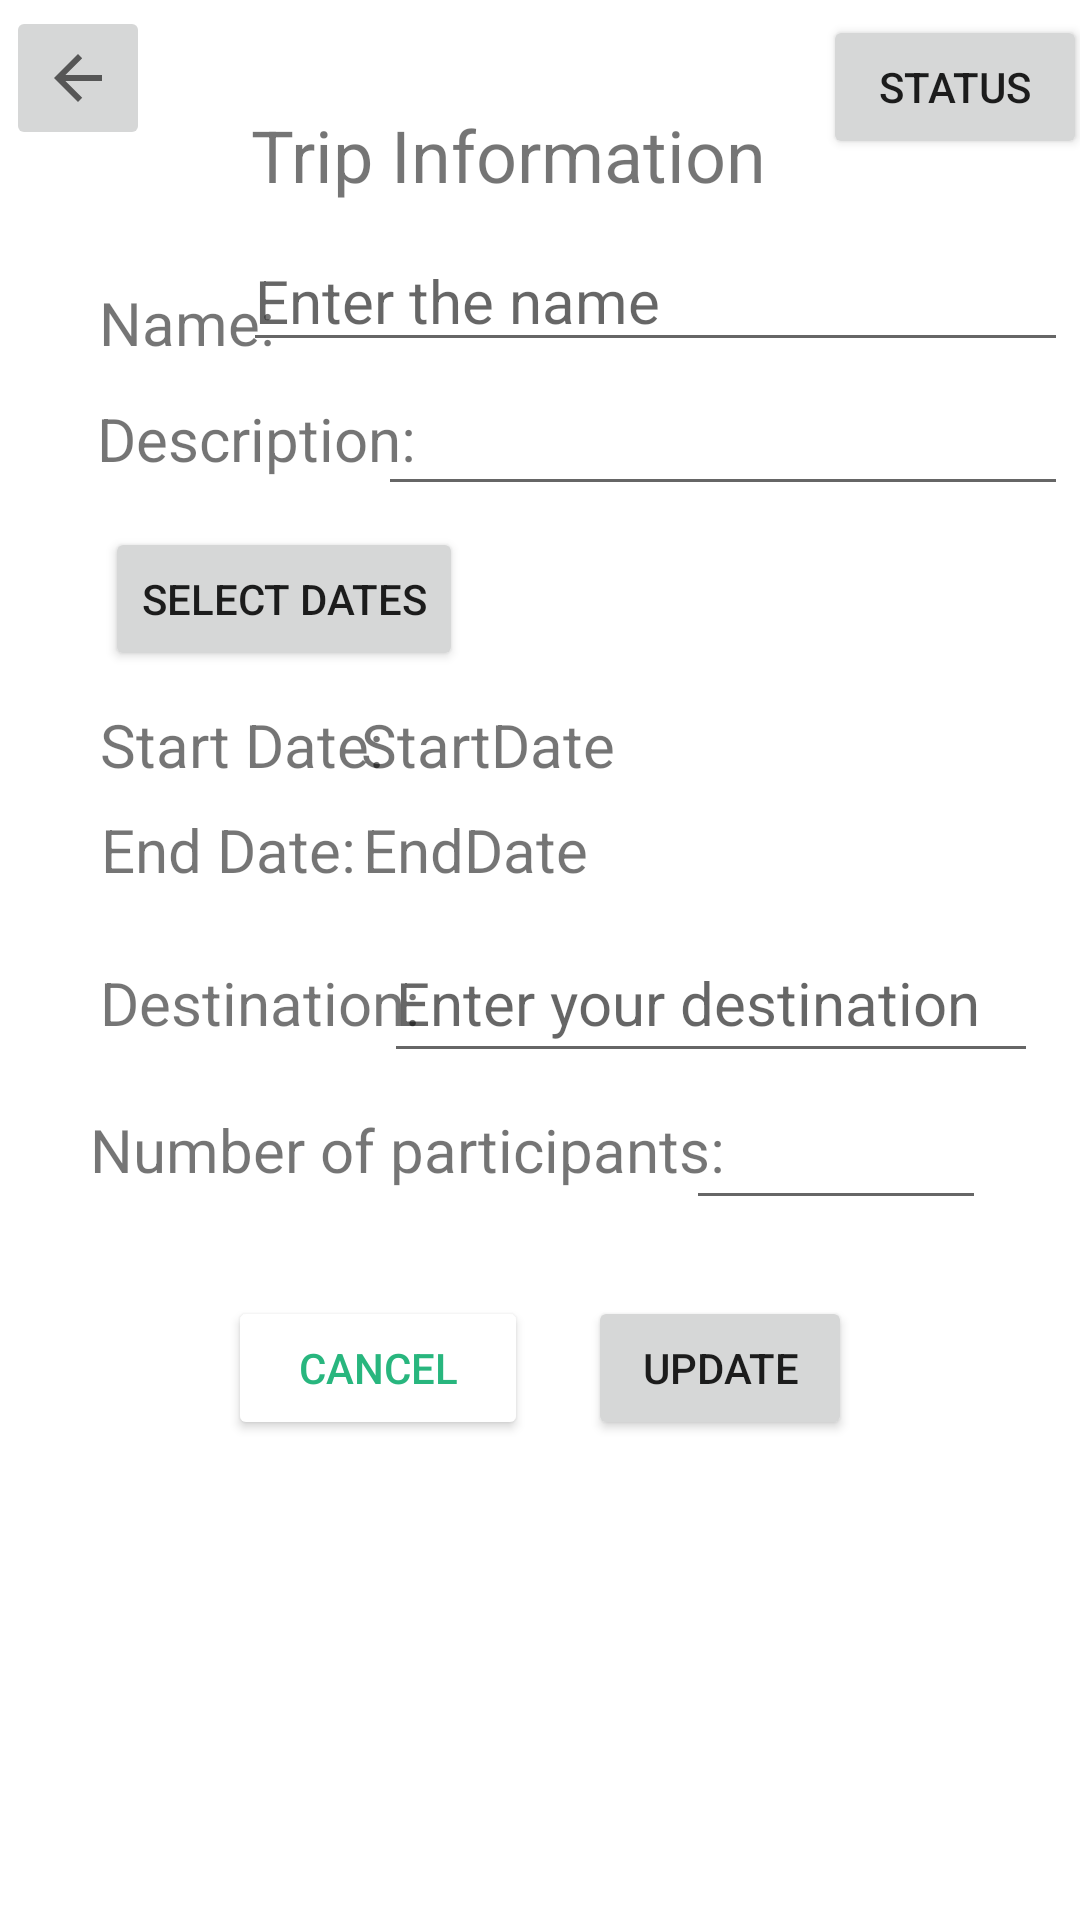

Where to tap for icons on this 1080x1920 app screen, as (x,y):
A button to go back to the Home Screen: (78,78)
